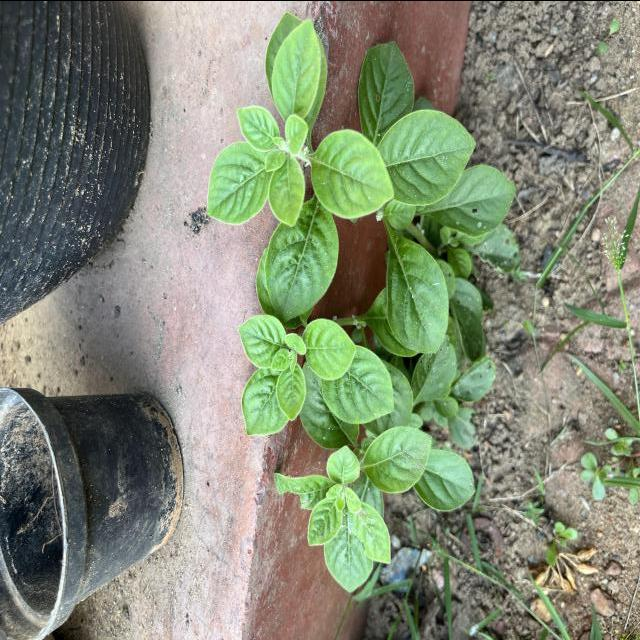Aerva lanata: (386, 106, 479, 206), (309, 126, 396, 219), (263, 217, 340, 321), (384, 233, 450, 354), (270, 15, 324, 117), (206, 140, 270, 224), (363, 424, 434, 493), (304, 316, 358, 382), (237, 312, 288, 368), (268, 156, 306, 228), (237, 103, 280, 152), (306, 496, 344, 546), (275, 366, 307, 421)
